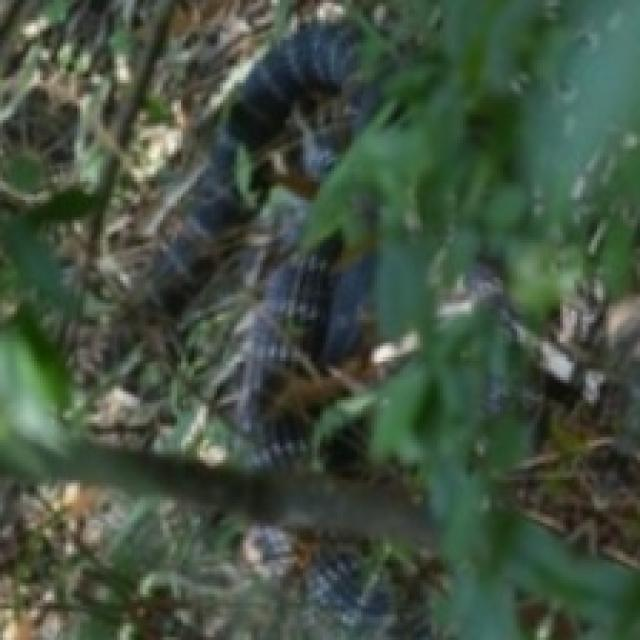king cobra: (83, 9, 434, 637)
